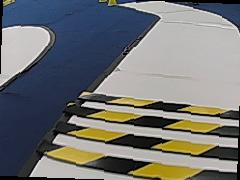bump: (48, 88, 240, 179)
